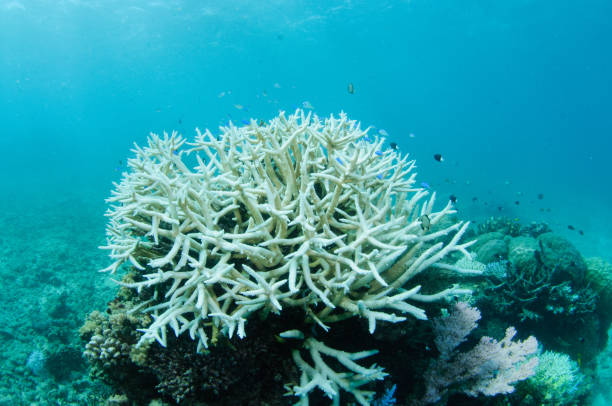dead: (107, 108, 439, 326)
